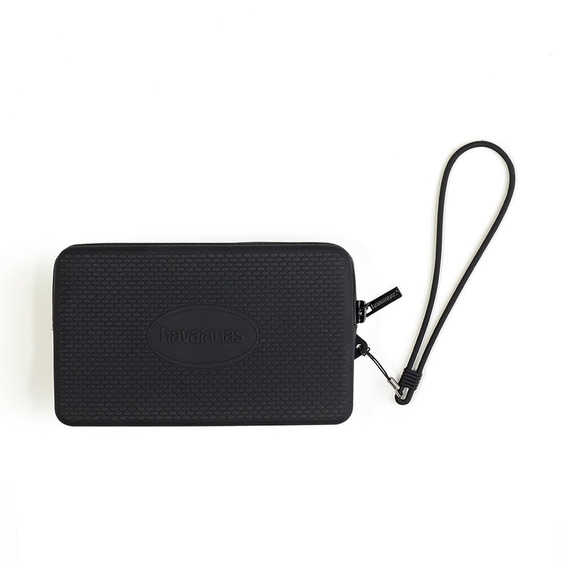cartera: (50, 241, 362, 431)
